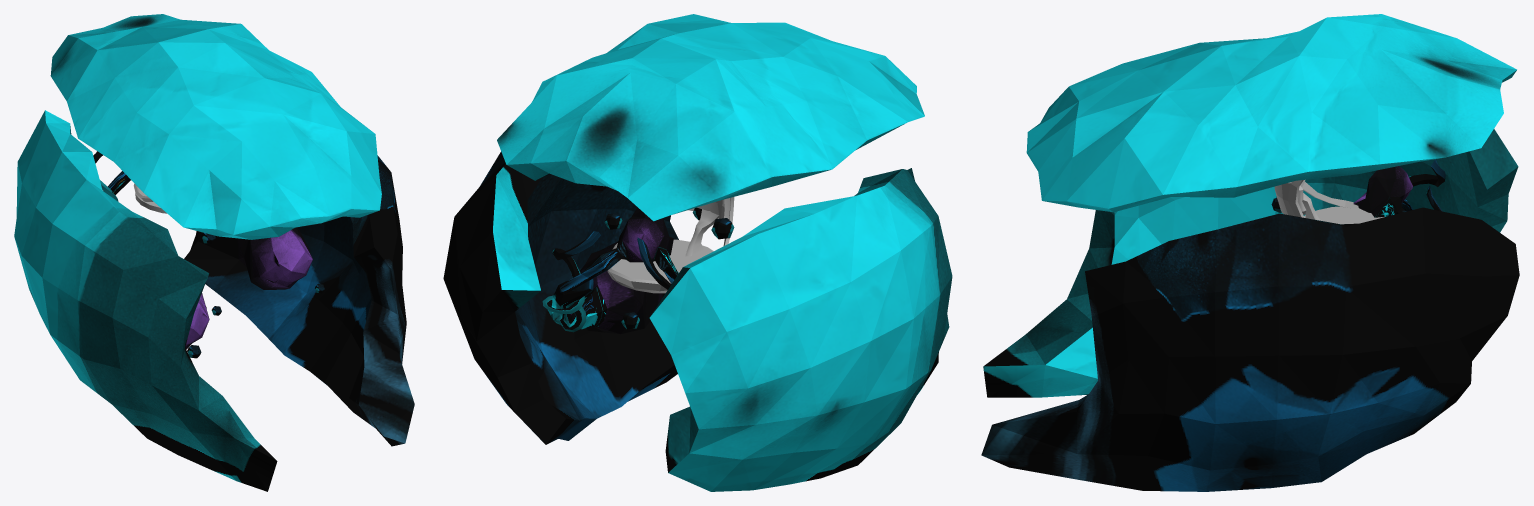
File: cockpit.fbx
The picture shows the model from 3 angles, left to right: view 1: azimuth 30°, elevation 25°; view 2: azimuth 150°, elevation 25°; view 3: azimuth 270°, elevation 25°; orthographic projection. The views are drawn at different scales.
Visible parts, largest first — view 1: cockpit; view 2: cockpit; view 3: cockpit.
Boxes of the visible parts, <box> form: cockpit: <box>14,14,414,491</box>; cockpit: <box>443,14,952,491</box>; cockpit: <box>981,14,1519,491</box>.
Size of the model in its own units: 8.79 by 8.63 by 10.32.
